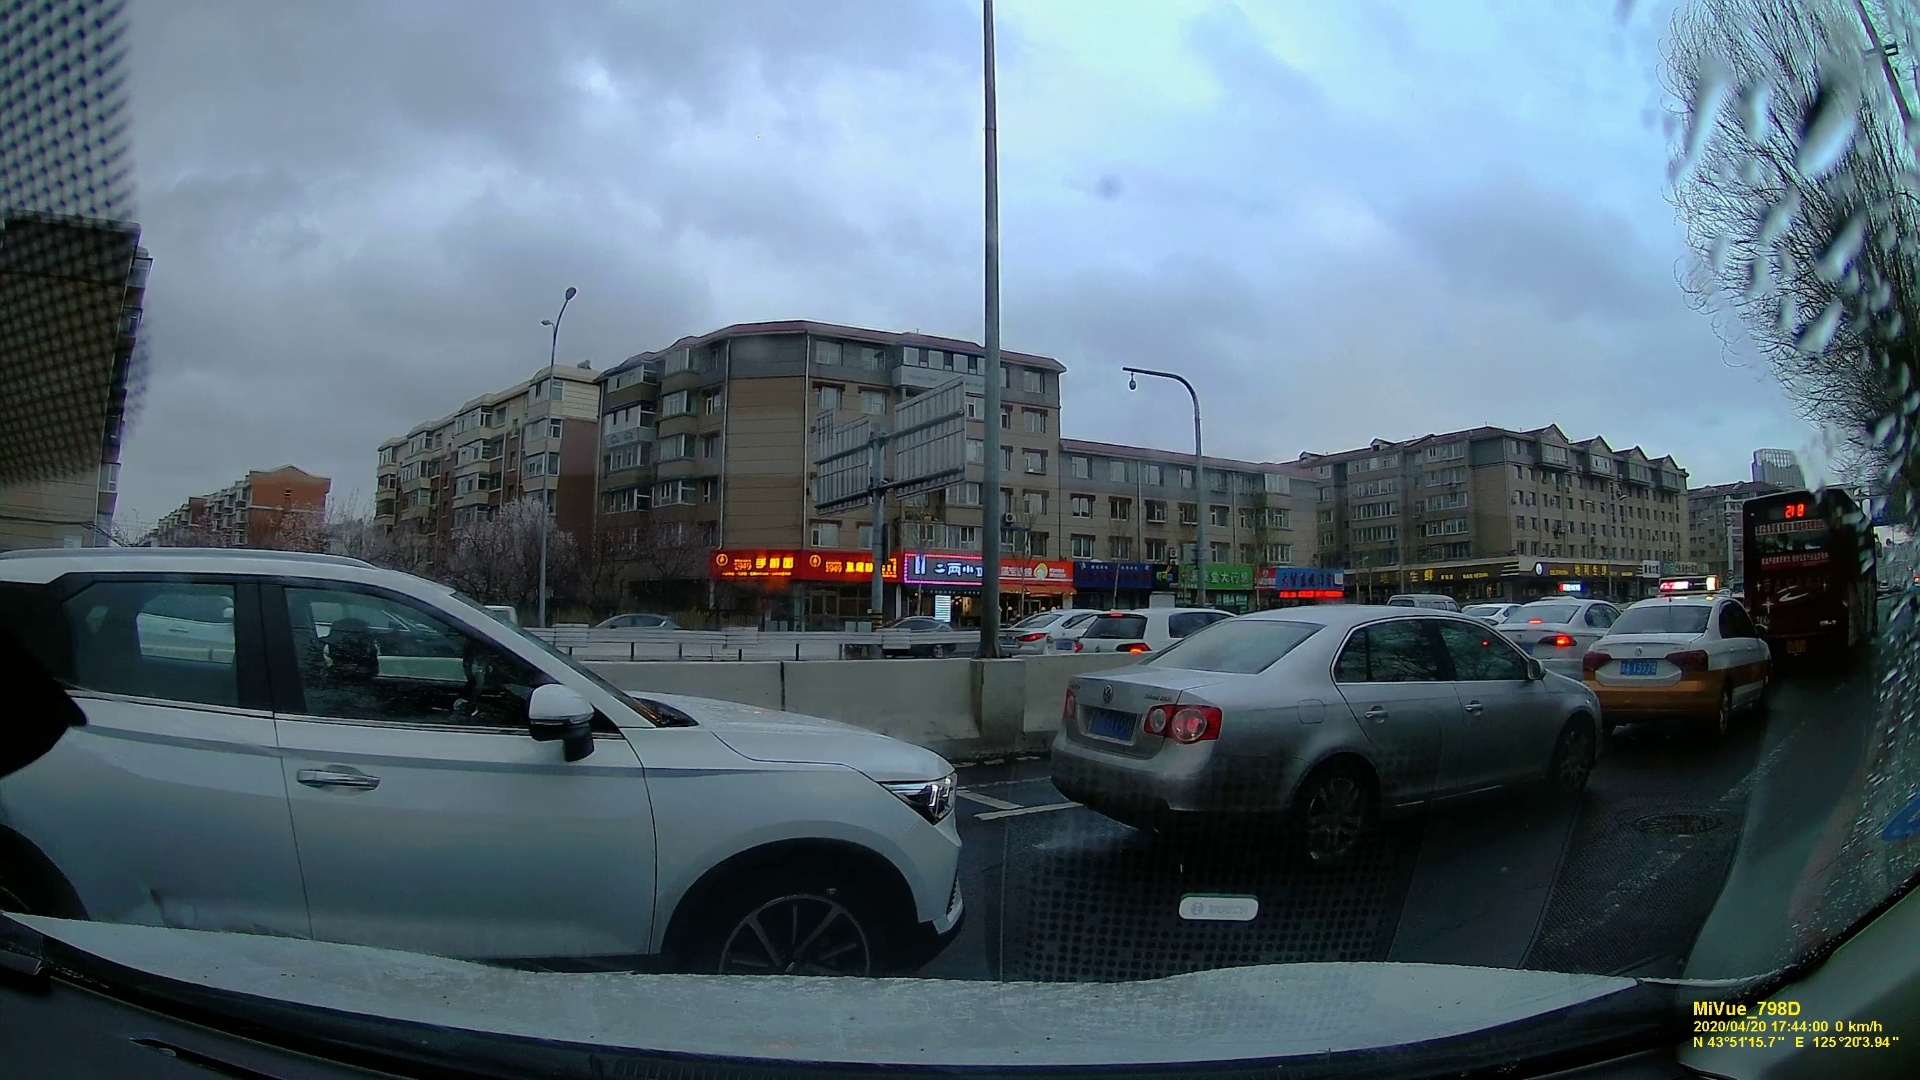bus: (1745, 496, 1880, 651)
vehicle: (1046, 604, 1636, 848), (1602, 587, 1780, 742), (1010, 607, 1162, 655), (584, 611, 675, 640)
